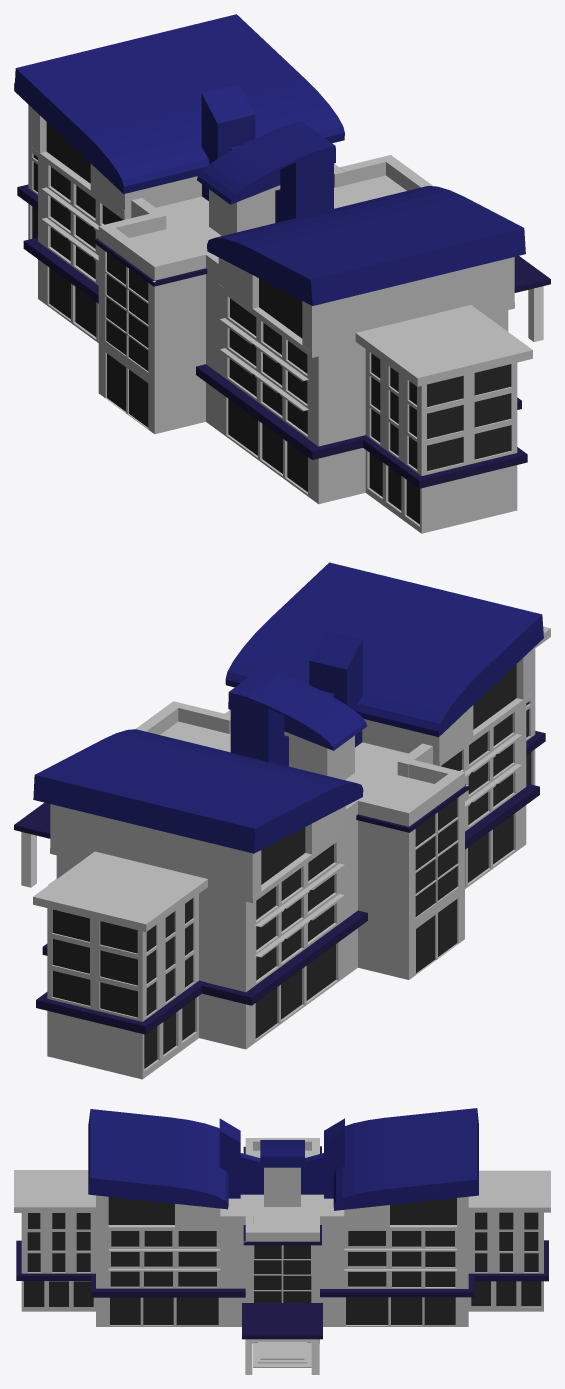
Rendered from fik.fbx.
The picture shows the model from 3 angles, top to bottom: view 1: azimuth 30°, elevation 25°; view 2: azimuth 150°, elevation 25°; view 3: azimuth 270°, elevation 25°; orthographic projection. The views are drawn at different scales.
Parts seen in each view (by area): view 1: Plane, Plane.003, Plane.002, Plane.001, Plane.004; view 2: Plane, Plane.003, Plane.001, Plane.002, Plane.004; view 3: Plane, Plane.004, Plane.003, Plane.001, Plane.002, Plane.005.
Boxes of the visible parts, box(x1,y1,x2,y2) form: Plane: box(14, 14, 532, 533); Plane.003: box(197, 121, 335, 235); Plane.002: box(201, 84, 255, 200); Plane.001: box(275, 153, 333, 222); Plane.004: box(514, 256, 550, 341); Plane: box(33, 562, 550, 1079); Plane.003: box(228, 667, 366, 779); Plane.001: box(309, 630, 362, 747); Plane.002: box(230, 699, 288, 766); Plane.004: box(14, 802, 50, 887); Plane: box(14, 1108, 550, 1343); Plane.004: box(242, 1303, 322, 1374); Plane.003: box(260, 1140, 304, 1206); Plane.001: box(219, 1118, 263, 1198); Plane.002: box(301, 1118, 344, 1198); Plane.005: box(253, 1342, 311, 1367).
Size of the model in its own units: 816 by 505 by 1444.
